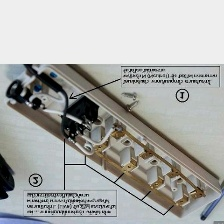three_eye_plug: (2, 56, 222, 220)
